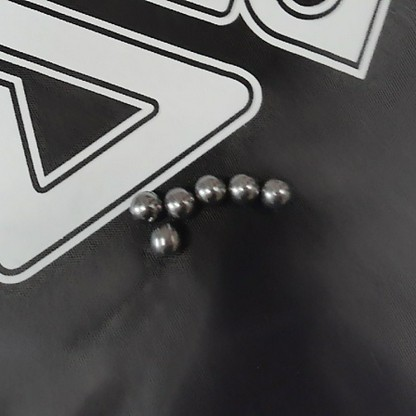ironball: (129, 188, 159, 219), (193, 176, 225, 203), (228, 173, 258, 199), (164, 187, 192, 214), (150, 227, 176, 255), (263, 179, 289, 207)
